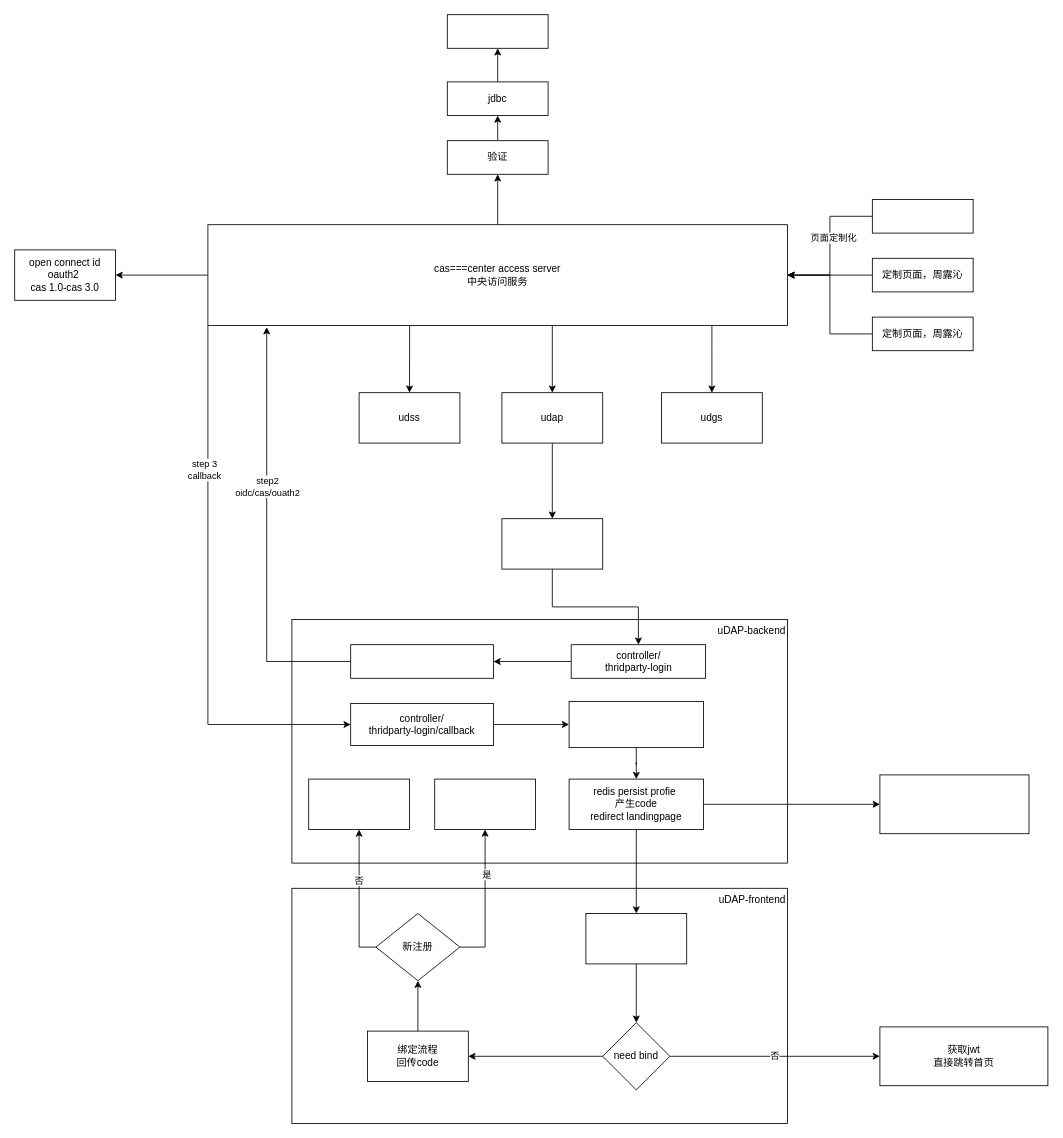
This 1063x1138 diagram has some shape labels left out. The shapes that lost their labels are listed below. From the top down, each one's centre as x and y in pixels, then its label:
point (497, 31): 自定义校验逻辑
point (922, 216): 登录页面
point (552, 543): get /thirdparty-login?client-name=oidcClient
point (422, 661): pac4j lib construct client
point (636, 724): pac4j lib get profile
point (359, 804): controller/ thirdparty-bind?bindCode=?
point (485, 804): controller/ thirdparty-register?bindCode=?
point (954, 804): 是否该profile 的 来源+username 已经绑定了用户， 是直接构造本系统的登录的用户token，
point (636, 938): landing page
